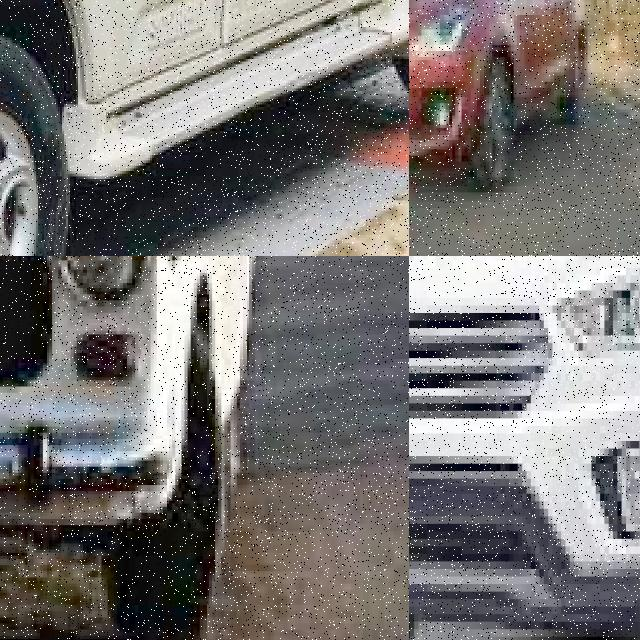car: (0, 0, 409, 256), (0, 256, 267, 640), (409, 256, 640, 640), (409, 0, 638, 187)
